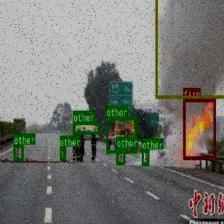smoke: (155, 0, 224, 98)
